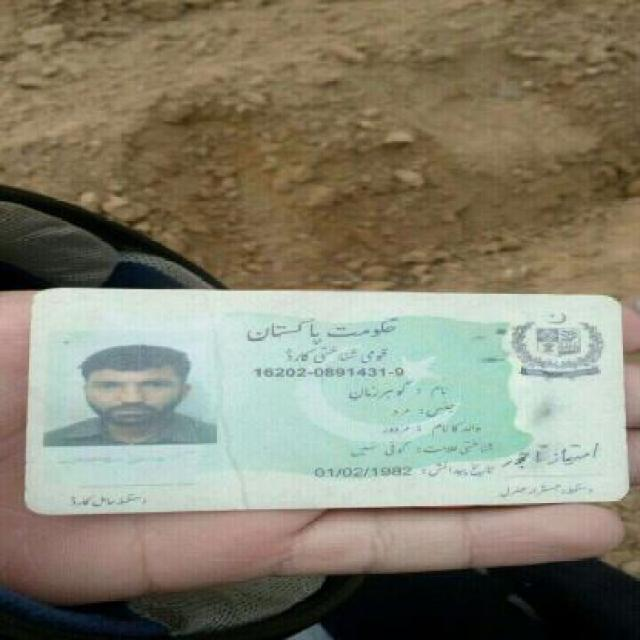Front: (20, 277, 628, 511)
